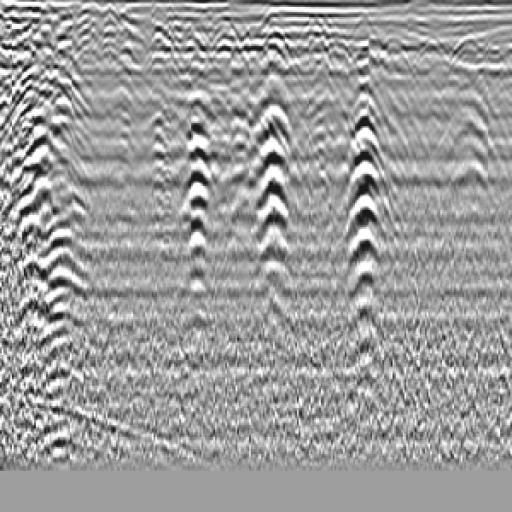metalic: (104, 34, 198, 254)
